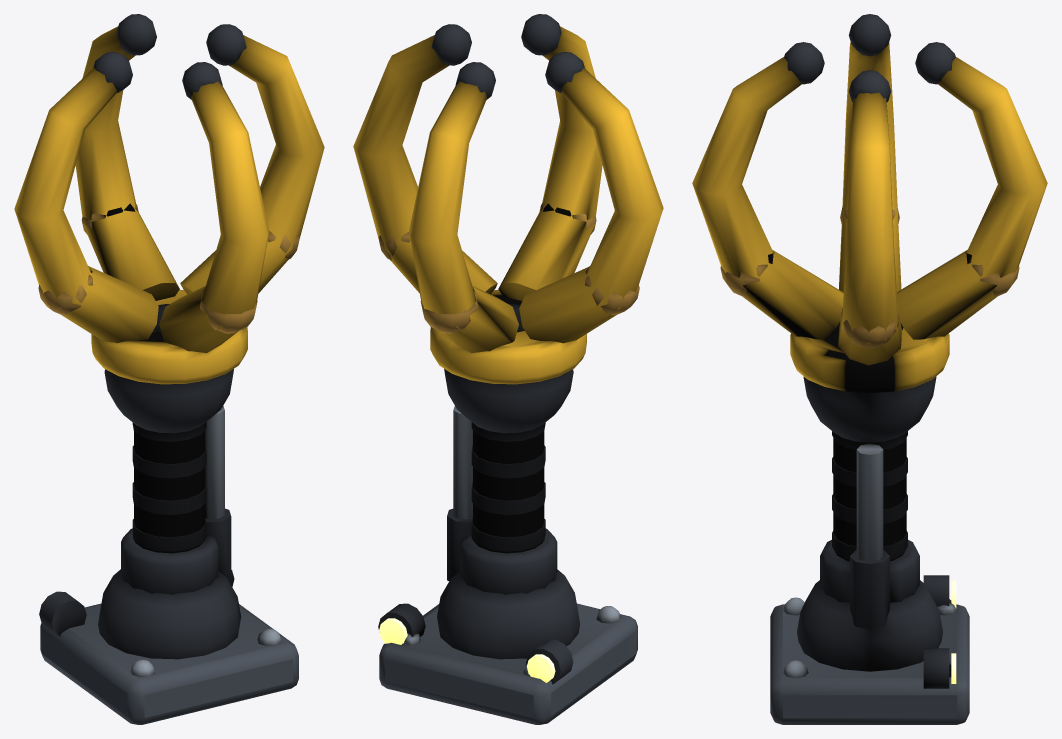
File: part_grapple_3.glb
3 renders of one model, left to right at view 1: azimuth 30°, elevation 25°; view 2: azimuth 150°, elevation 25°; view 3: azimuth 270°, elevation 25°, orthographic.
Parts seen in each view (by area): view 1: grapple_claw_mesh.002, grapple_base.002, grapple_arm_mesh.002; view 2: grapple_claw_mesh.002, grapple_base.002, grapple_arm_mesh.002; view 3: grapple_claw_mesh.002, grapple_base.002, grapple_arm_mesh.002.
Boxes of the visible parts, x1,y1,x2,y2 form: grapple_claw_mesh.002: (14,14,324,433); grapple_base.002: (39,569,298,724); grapple_arm_mesh.002: (121,406,231,594); grapple_claw_mesh.002: (353,14,663,433); grapple_base.002: (378,569,637,724); grapple_arm_mesh.002: (447,406,557,594); grapple_claw_mesh.002: (692,14,1047,442); grapple_base.002: (770,575,969,724); grapple_arm_mesh.002: (820,431,919,629).
Bounding box in the file's own units: 0.6954 × 1.41 × 0.6954.
